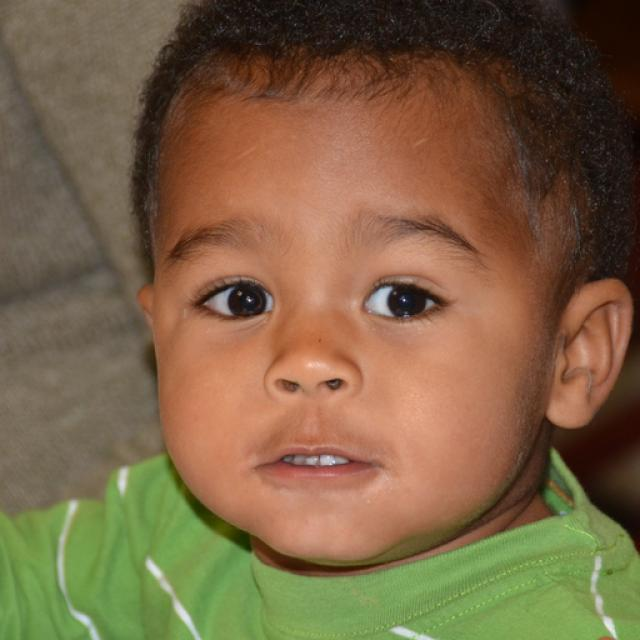surprise: (158, 64, 540, 565)
